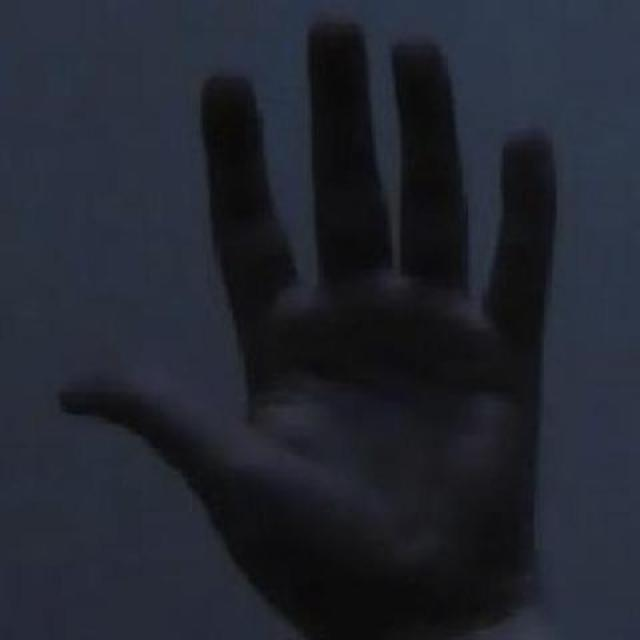Open Hand: (54, 14, 594, 640)
